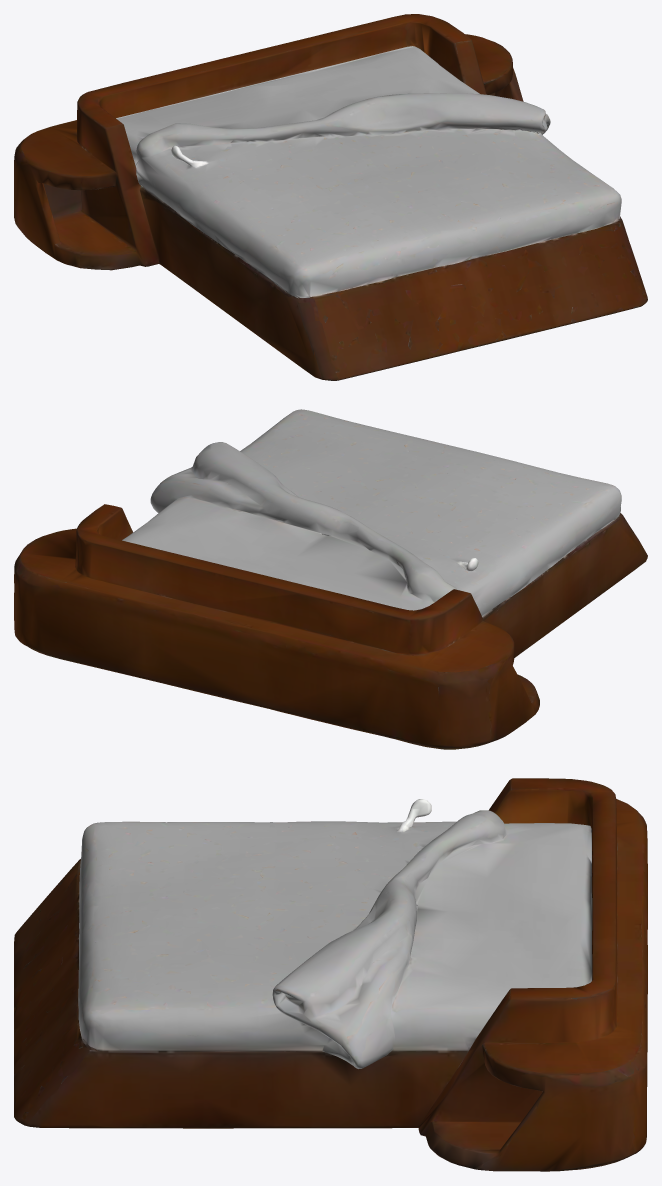
The model's file is dEjRm2JNj5elciYI0zT_9.glb.
3 renders of one model, top to bottom at view 1: azimuth 30°, elevation 25°; view 2: azimuth 150°, elevation 25°; view 3: azimuth 270°, elevation 25°, orthographic. The views are drawn at different scales.
Visible parts, largest first — view 1: geometry_0; view 2: geometry_0; view 3: geometry_0.
Boxes of the visible parts, x1,y1,x2,y2 form: geometry_0: (14,14,647,380); geometry_0: (14,409,647,749); geometry_0: (14,778,647,1171).
Size of the model in its own units: 1 by 0.2449 by 0.9321.
1 material, 1 textured.
